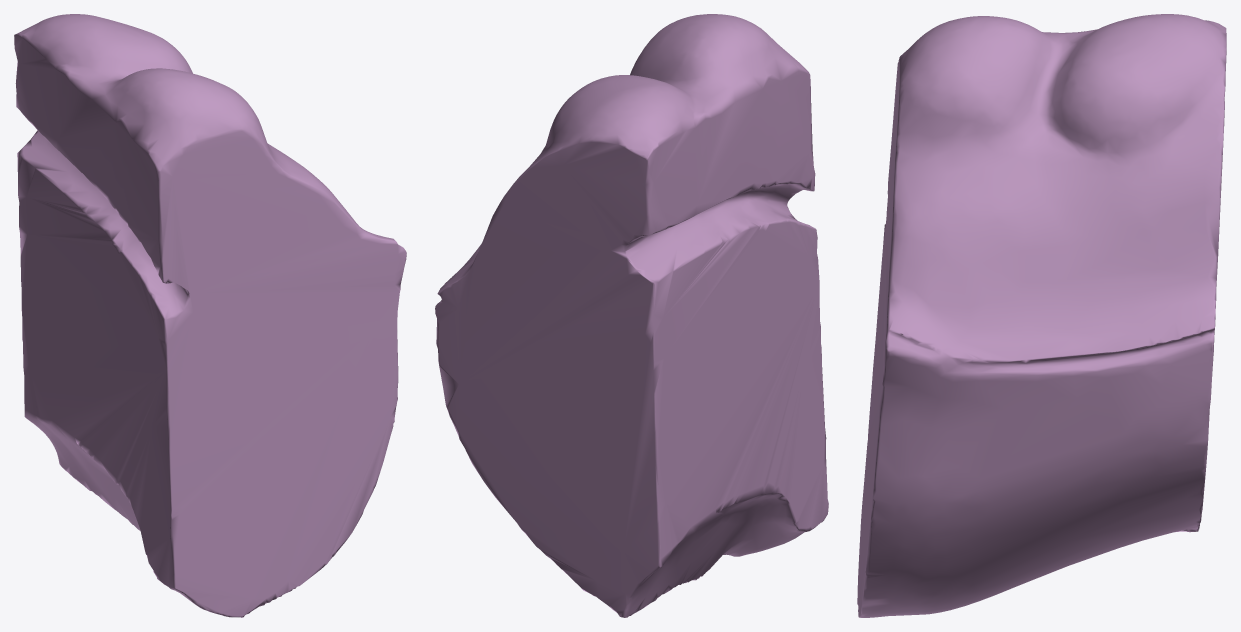
The picture shows the model from 3 angles, left to right: view 1: azimuth 30°, elevation 25°; view 2: azimuth 150°, elevation 25°; view 3: azimuth 270°, elevation 25°; orthographic projection. The views are drawn at different scales.
Visible parts, largest first — view 1: 左侧中脑; view 2: 左侧中脑; view 3: 左侧中脑.
Part boxes in pixels (left/top/right/bottom): 左侧中脑: left=14, top=14, right=406, bottom=617; 左侧中脑: left=435, top=14, right=828, bottom=617; 左侧中脑: left=857, top=14, right=1226, bottom=617.
Size of the model in its own units: 0.021 by 0.042 by 0.0244.
